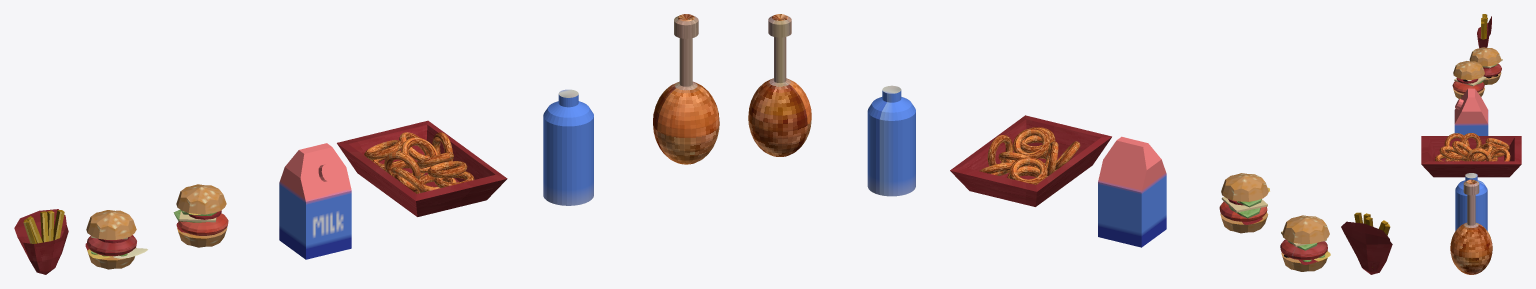
Rendered from Water.obj.
3 views of the same model, side by side, from view 1: azimuth 30°, elevation 25°; view 2: azimuth 150°, elevation 25°; view 3: azimuth 270°, elevation 25° (orthographic). The views are drawn at different scales.
Parts seen in each view (by area): view 1: Cube.001, Cube, Sphere, Cylinder, Hamburger, Cheese_burger, Fries; view 2: Cube.001, Cube, Sphere, Cylinder, Hamburger, Cheese_burger, Fries; view 3: Cube.001, Sphere, Cube, Cylinder, Hamburger, Cheese_burger, Fries.
Part boxes in pixels (<box>): Cube.001: <box>337,120,507,216</box>; Cube: <box>279,143,351,259</box>; Sphere: <box>653,14,719,164</box>; Cylinder: <box>543,89,593,205</box>; Hamburger: <box>173,184,228,247</box>; Cheese_burger: <box>85,210,147,269</box>; Fries: <box>14,209,68,274</box>; Cube.001: <box>950,115,1111,206</box>; Cube: <box>1098,136,1166,247</box>; Sphere: <box>748,14,811,156</box>; Cylinder: <box>867,85,915,196</box>; Hamburger: <box>1219,173,1269,233</box>; Cheese_burger: <box>1280,215,1330,271</box>; Fries: <box>1341,212,1392,274</box>; Cube.001: <box>1421,133,1521,177</box>; Sphere: <box>1450,179,1492,274</box>; Cube: <box>1454,88,1488,135</box>; Cylinder: <box>1455,173,1487,230</box>; Hamburger: <box>1452,61,1486,98</box>; Cheese_burger: <box>1469,47,1502,84</box>; Fries: <box>1477,14,1491,48</box>.
Bounding box in the file's own units: 13 × 2.71 × 2.61.
